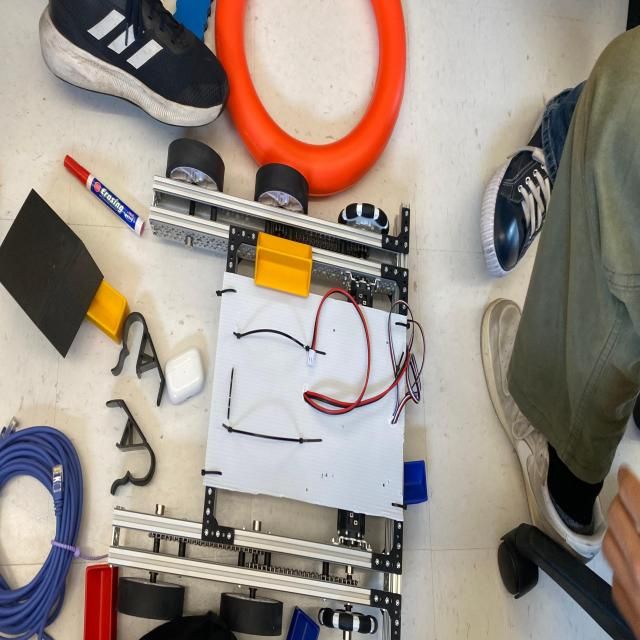blue-specimen: (286, 606, 320, 640), (403, 460, 427, 505)
red-specimen: (83, 564, 118, 640)
yellow-specimen: (254, 233, 312, 297), (86, 279, 130, 344)
